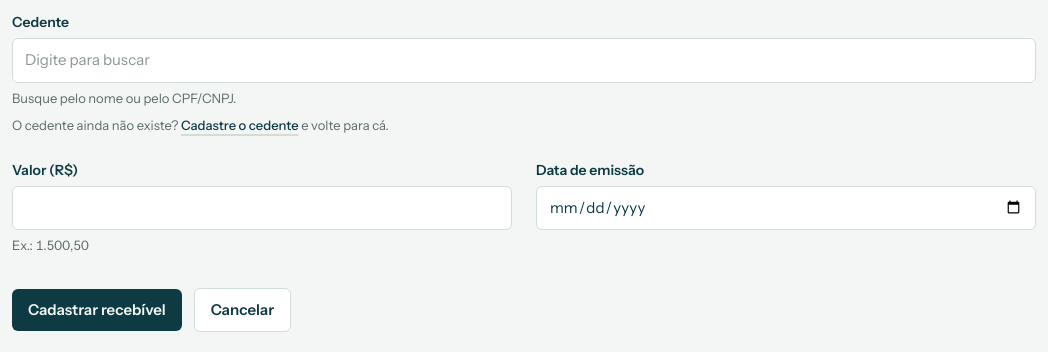
Scenario: PayableForm › não envia com campos vazios e mostra o motivo em cada campo
Click the button "Cadastrar recebível".
click(97, 310)  # box top-left (12, 288), bottom-right (182, 331)
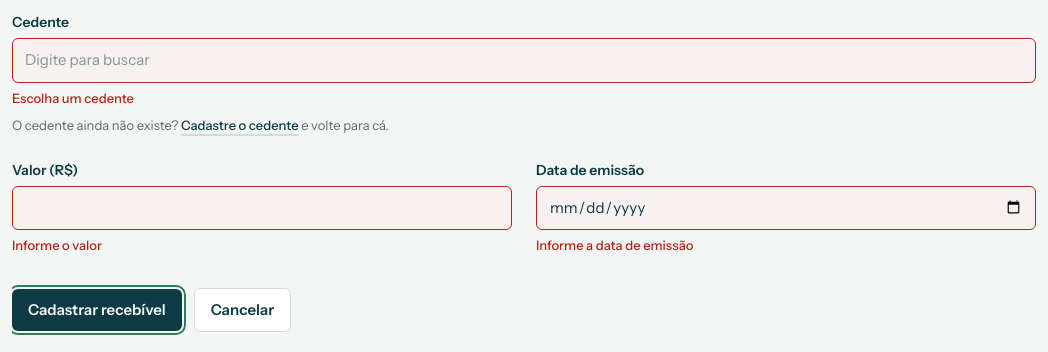
Check: the text "Escolha um cedente" is shown, box top-left (12, 90), bottom-right (134, 106)
Check: the text "Informe o valor" is shown, box top-left (12, 237), bottom-right (102, 253)
Check: the text "Informe a data de emissão" is shown, box top-left (536, 237), bottom-right (693, 253)
